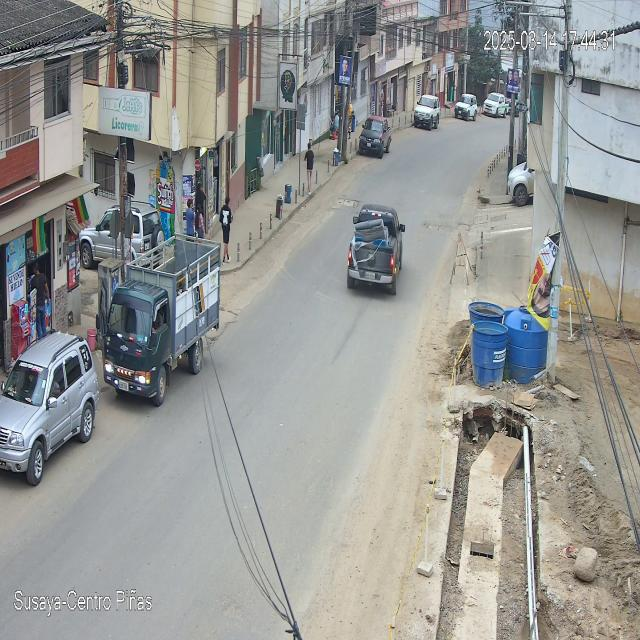CMT: (346, 205, 404, 299)
SUV: (0, 331, 99, 487)
TRUCK: (104, 234, 221, 407)
